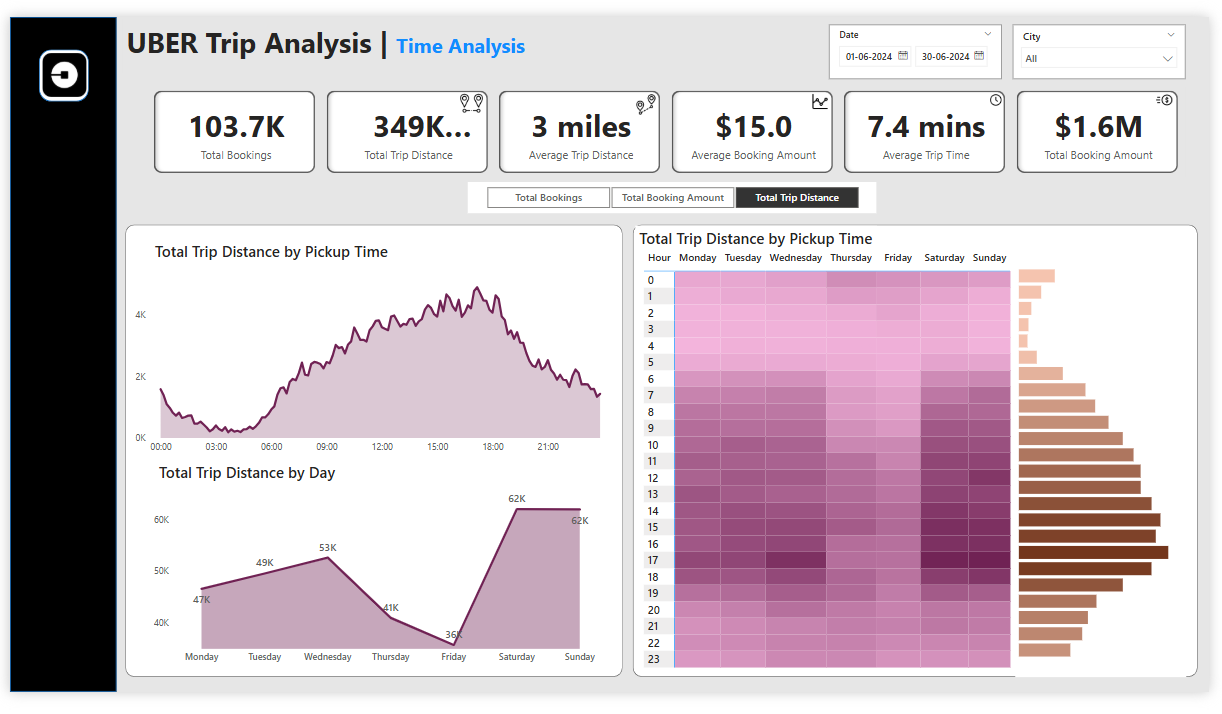

This screenshot's page, from the dashboard's own definition file:
{"tool":"powerbi","page":{"name":"Time Analysis","canvas":[1600,900],"ordinal":1},"visuals":[{"type":"shape","box":[1.7,0,141.7,900],"z":0},{"type":"textbox","box":[151.3,3.1,940.1,70.3],"z":1000},{"type":"cardVisual","fields":{"Data":["Trip Details.Total Bookings","Trip Details.Total Trip Distance","Trip Details.Average Trip Distance","Trip Details.Average Booking Amount","Trip Details.Average Trip Time","Trip Details.Total Booking Amount"]},"box":[187.5,92.5,1380,120],"z":2000},{"type":"image","box":[1518.3,95,43.3,31.7],"z":3000},{"type":"image","box":[596.7,93.3,40,43.3],"z":4000},{"type":"image","box":[831.7,95,36.7,43.3],"z":5000},{"type":"image","box":[1303.3,95,25,31.7],"z":6000},{"type":"shape","box":[155,276.7,663.3,603.3],"z":7000},{"type":"image","box":[1065,86.7,33.3,51.7],"z":8000},{"type":"slicer","fields":{"Values":["Dynamic Measure.Dynamic Measure"]},"box":[611.7,220,545,41.7],"z":9000},{"type":"slicer","fields":{"Values":["Calendar Table.Date"]},"box":[1092.5,10,230,72.5],"z":10000},{"type":"slicer","fields":{"Values":["Location Table.City"]},"box":[1337.5,10,230,72.5],"z":11000},{"type":"areaChart","title":"Total Bookings by Pickup Time ","fields":{"Y":["Trip Details.Total Bookings"],"Category":["Trip Details.Pickup Time (bins)"]},"box":[163.3,341.7,645,250],"z":12000},{"type":"card","fields":{"Values":["Trip Details.Pickup Time Title"]},"box":[163.3,286.7,373.3,55],"z":13000},{"type":"areaChart","fields":{"Y":["Trip Details.Total Bookings"],"Category":["Calendar Table.Day Name"]},"box":[188.3,621.7,611.7,250],"z":14000},{"type":"card","fields":{"Values":["Trip Details.Day Title"]},"box":[170,590,295,36.7],"z":15000},{"type":"shape","box":[831.7,276.7,753.3,603.3],"z":16000},{"type":"pivotTable","fields":{"Values":["Trip Details.Total Bookings"],"Rows":["Trip Details.Pickup Hour"],"Columns":["Calendar Table.Day Name"]},"box":[841.7,305,536.7,571.7],"z":17000},{"type":"barChart","fields":{"Y":["Trip Details.Total Bookings"],"Category":["Trip Details.Pickup Hour"]},"box":[1341.7,323.3,228.3,556.7],"z":18000},{"type":"card","fields":{"Values":["Trip Details.Pickup Time Title"]},"box":[835,278.3,321.7,36.7],"z":19000},{"type":"shape","box":[39.2,43.7,66.4,69.4],"z":20000},{"type":"image","box":[39.2,43.7,67.9,67.9],"z":21000}]}

Visuals, with their boxes on the page's 1600x900 design canvas (x1, y1, x2, y2). These are canvas units, not pixel positions in the 1222x714 screenshot, which may show the page scaled, cropped or inside an application window:
shape: (x1=2, y1=0, x2=143, y2=900)
textbox: (x1=151, y1=3, x2=1091, y2=73)
cardVisual - Trip Details.Total Bookings x Trip Details.Total Trip Distance: (x1=188, y1=92, x2=1568, y2=212)
image: (x1=1518, y1=95, x2=1562, y2=127)
image: (x1=597, y1=93, x2=637, y2=137)
image: (x1=832, y1=95, x2=868, y2=138)
image: (x1=1303, y1=95, x2=1328, y2=127)
shape: (x1=155, y1=277, x2=818, y2=880)
image: (x1=1065, y1=87, x2=1098, y2=138)
slicer - Dynamic Measure.Dynamic Measure: (x1=612, y1=220, x2=1157, y2=262)
slicer - Calendar Table.Date: (x1=1092, y1=10, x2=1322, y2=82)
slicer - Location Table.City: (x1=1338, y1=10, x2=1568, y2=82)
"Total Bookings by Pickup Time " areaChart: (x1=163, y1=342, x2=808, y2=592)
card - Trip Details.Pickup Time Title: (x1=163, y1=287, x2=537, y2=342)
areaChart - Trip Details.Total Bookings x Calendar Table.Day Name: (x1=188, y1=622, x2=800, y2=872)
card - Trip Details.Day Title: (x1=170, y1=590, x2=465, y2=627)
shape: (x1=832, y1=277, x2=1585, y2=880)
pivotTable - Trip Details.Total Bookings x Trip Details.Pickup Hour: (x1=842, y1=305, x2=1378, y2=877)
barChart - Trip Details.Total Bookings x Trip Details.Pickup Hour: (x1=1342, y1=323, x2=1570, y2=880)
card - Trip Details.Pickup Time Title: (x1=835, y1=278, x2=1157, y2=315)
shape: (x1=39, y1=44, x2=106, y2=113)
image: (x1=39, y1=44, x2=107, y2=112)
